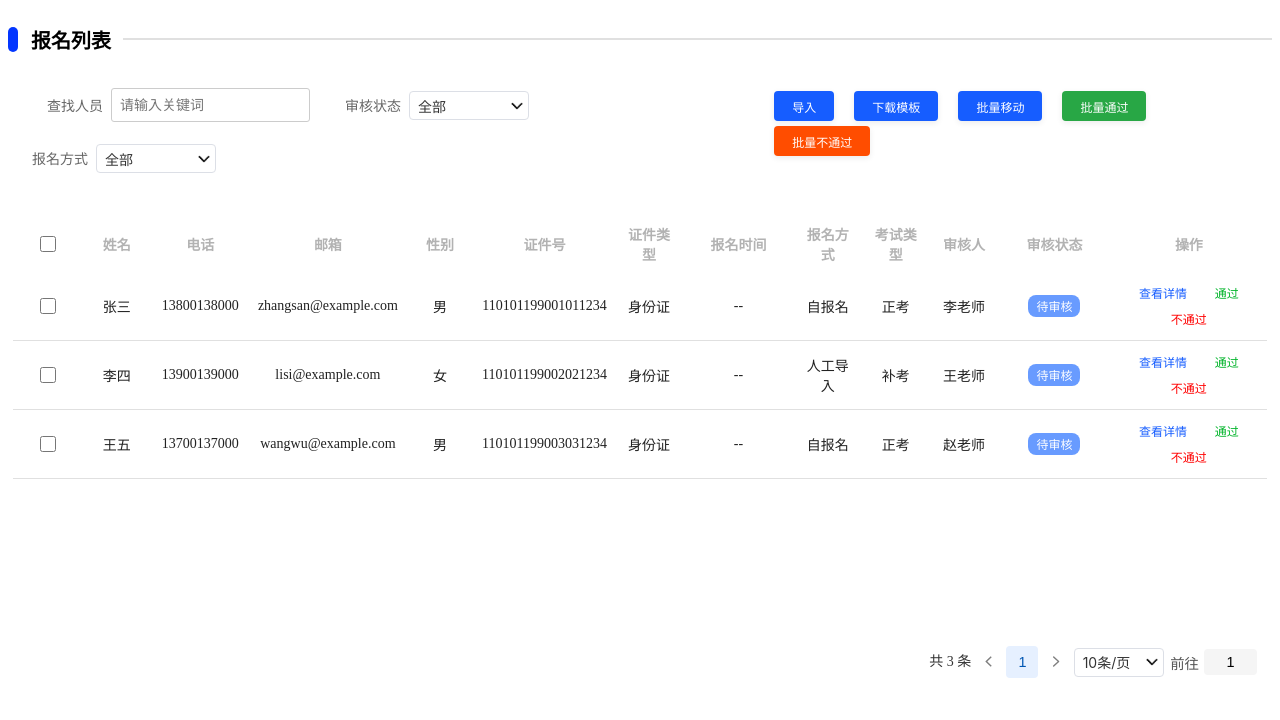
Test: EnrollManagement › 交互功能测试 › 批量通过操作
Expected: the text "张三" is shown, left=83, top=272, right=151, bottom=341
// 选择前两个checkbox
Step 1. Click the checkbox next to "张三" → (48,306), box left=40, top=298, right=56, bottom=314
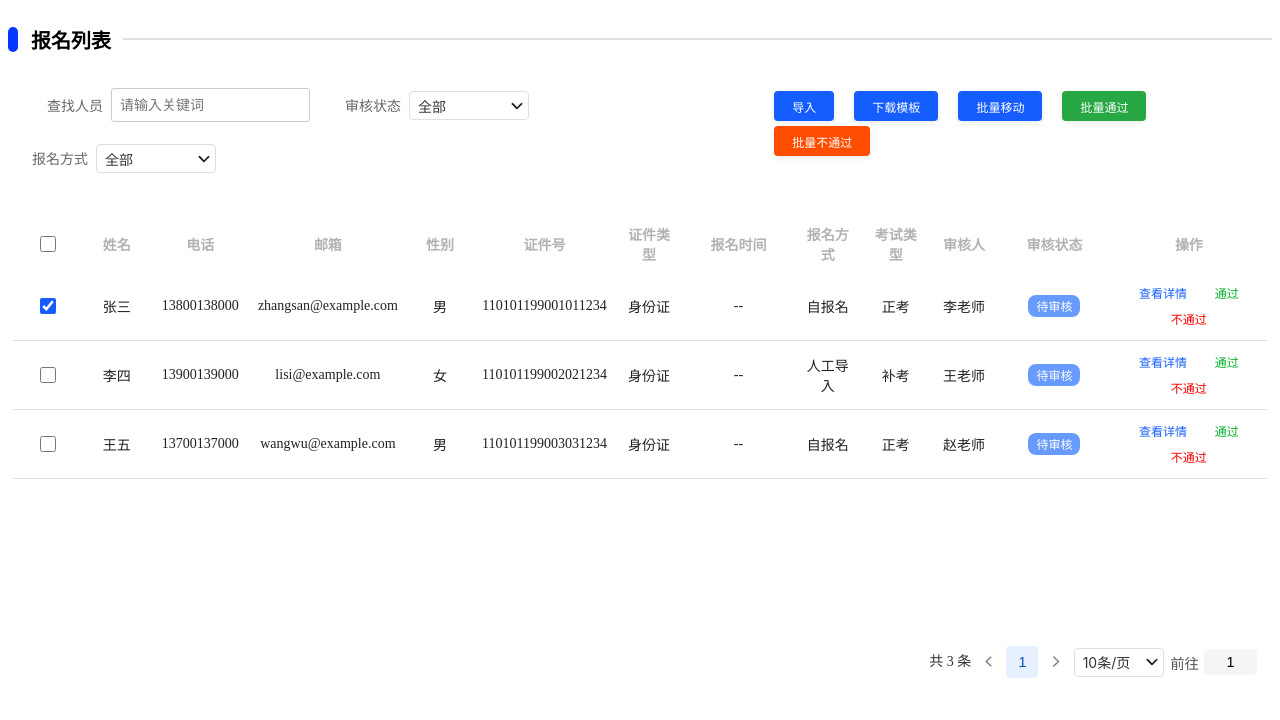
Step 2. Click the checkbox next to "李四" → (48,375), box left=40, top=367, right=56, bottom=383
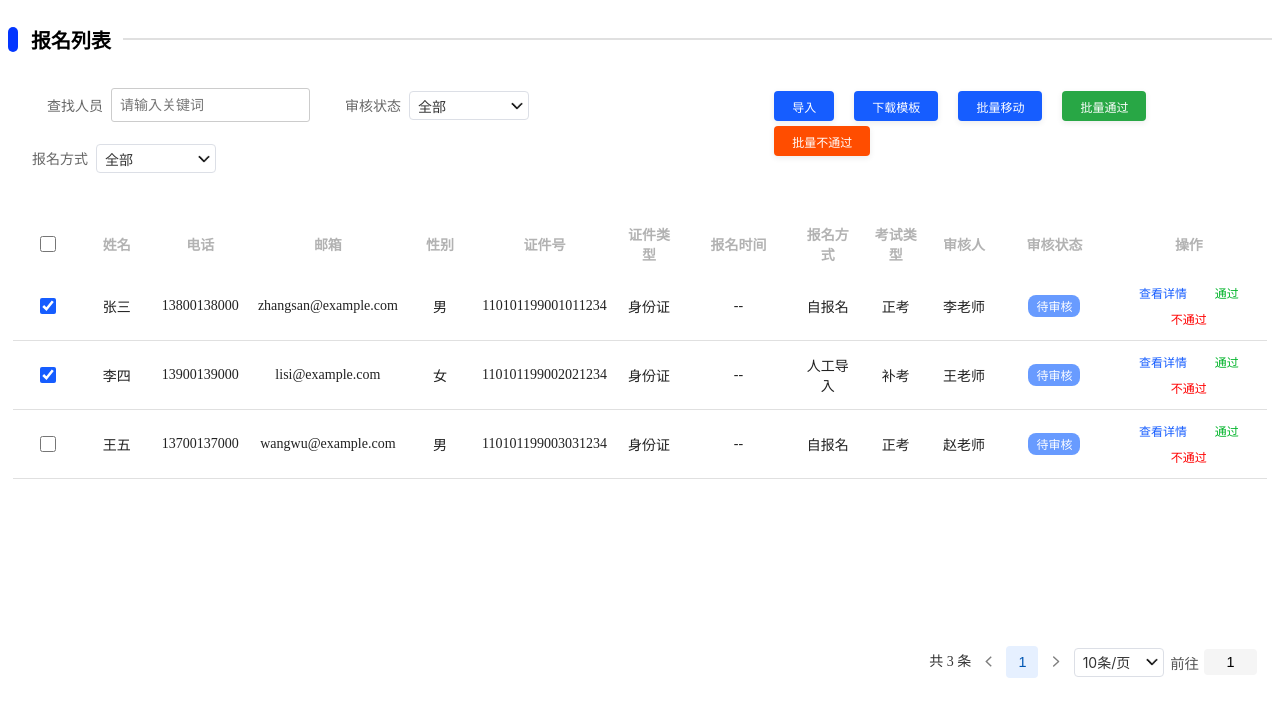
Step 3. Click the button "批量通过" → (1104,106), box left=1062, top=91, right=1146, bottom=121
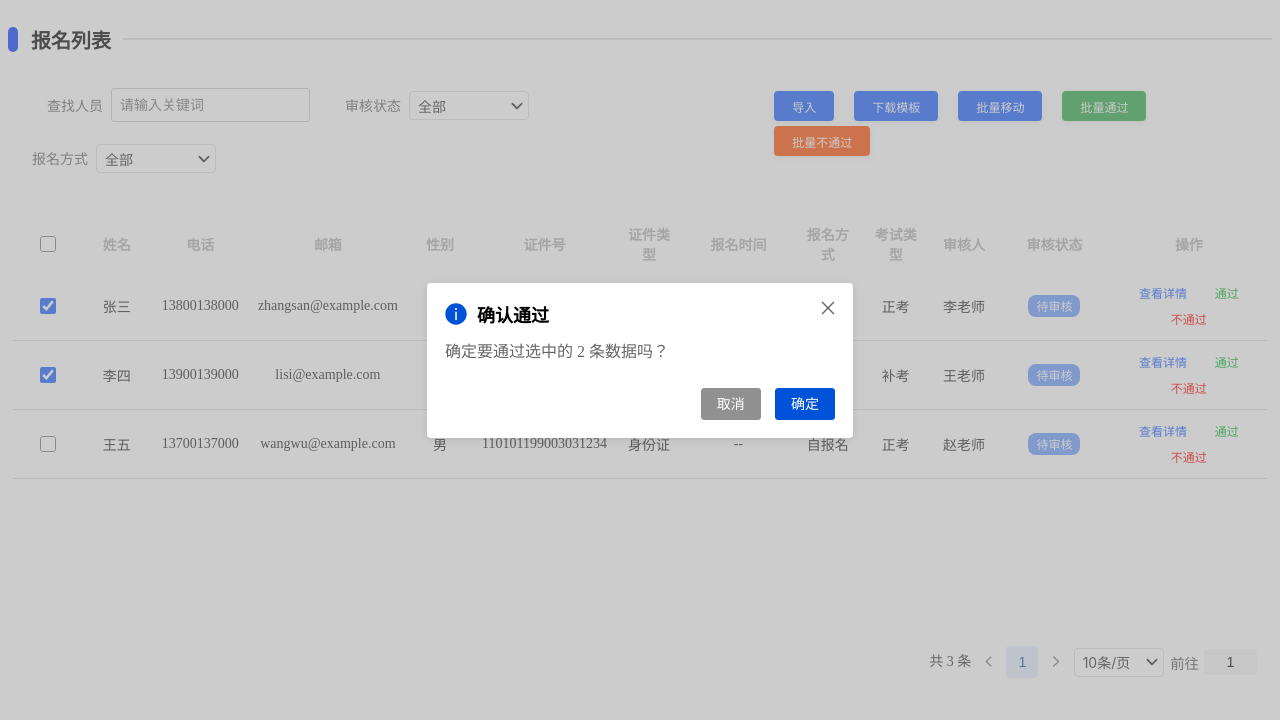
Now the text "确认通过" is shown, box left=445, top=302, right=549, bottom=326
